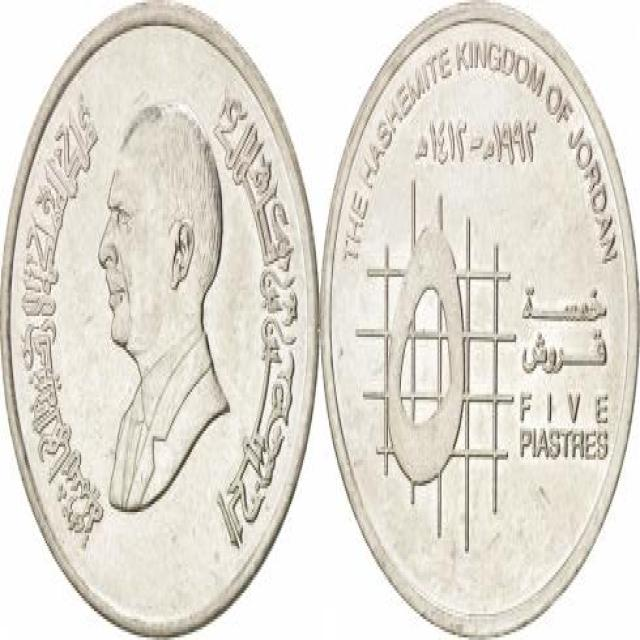5-coins: (0, 0, 320, 640), (318, 1, 638, 638)
